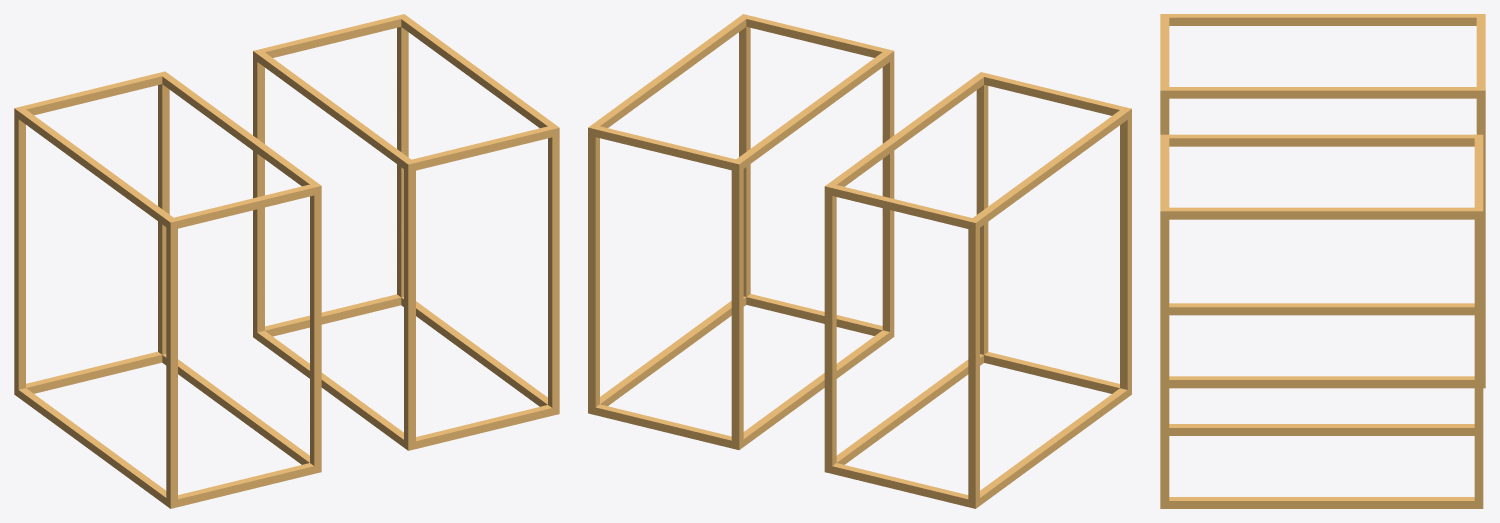
File: skishoes.glb
The picture shows the model from 3 angles, left to right: view 1: azimuth 30°, elevation 25°; view 2: azimuth 150°, elevation 25°; view 3: azimuth 270°, elevation 25°; orthographic projection. The views are drawn at different scales.
Parts seen in each view (by area): view 1: box_0, box_1; view 2: box_0, box_1; view 3: box_1, box_0.
Part boxes in pixels (x1=…): box_0: x1=14, y1=71, x2=321, y2=508; box_1: x1=253, y1=14, x2=559, y2=450; box_0: x1=824, y1=72, x2=1131, y2=508; box_1: x1=588, y1=14, x2=894, y2=449; box_1: x1=1160, y1=134, x2=1483, y2=508; box_0: x1=1160, y1=14, x2=1485, y2=388.
Size of the model in its own units: 0.5203 by 0.3658 by 0.3622.
